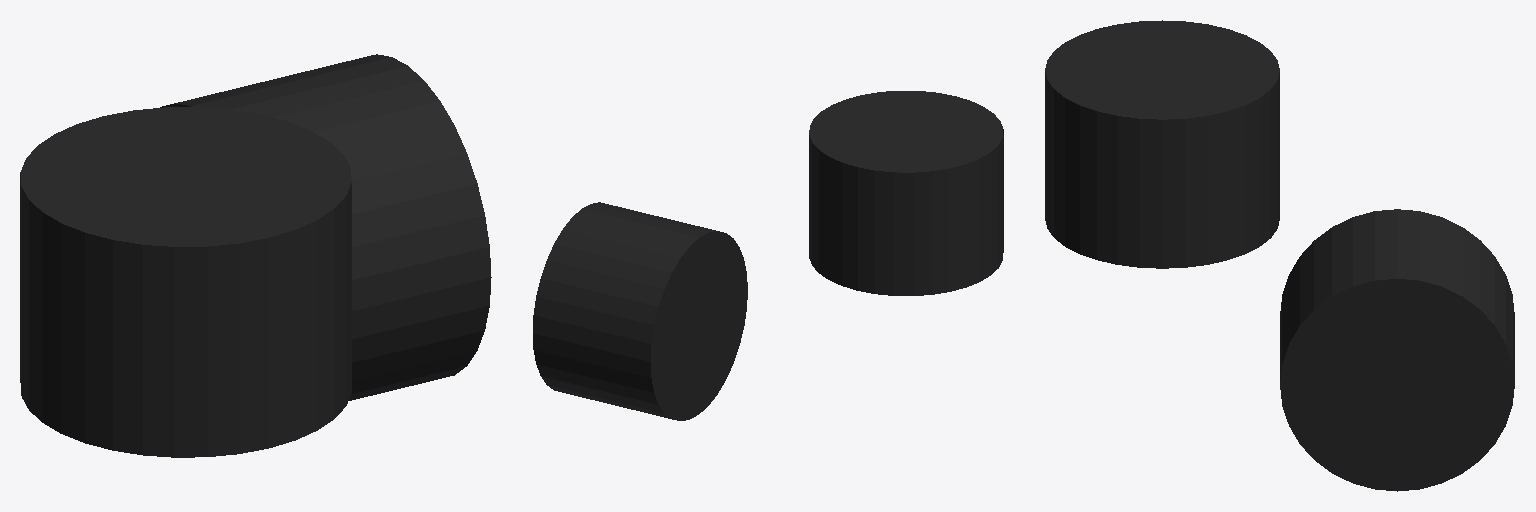
robot.urdf — cartographer_backpack_3d:
<!--
  Copyright 2016 The Cartographer Authors

  Licensed under the Apache License, Version 2.0 (the "License");
  you may not use this file except in compliance with the License.
  You may obtain a copy of the License at

       http://www.apache.org/licenses/LICENSE-2.0

  Unless required by applicable law or agreed to in writing, software
  distributed under the License is distributed on an "AS IS" BASIS,
  WITHOUT WARRANTIES OR CONDITIONS OF ANY KIND, either express or implied.
  See the License for the specific language governing permissions and
  limitations under the License.
-->

<robot name="cartographer_backpack_3d">
  <material name="orange">
    <color rgba="1.0 0.5 0.2 1" />
  </material>
  <material name="gray">
    <color rgba="0.2 0.2 0.2 1" />
  </material>

  <link name="imu_link">
    <visual>
      <origin xyz="0.0 0.0 0.0" />
      <geometry>
        <box size="0.0 0.0 0.00" />
      </geometry>
      <material name="orange" />
    </visual>
  </link>

  <link name="horizontal_vlp16_link">
    <visual>
      <origin xyz="0.0 0.0 0.0" />
      <geometry>
        <cylinder length="0.07" radius="0.05" />
      </geometry>
      <material name="gray" />
    </visual>
  </link>

  <link name="vertical_vlp16_link">
    <visual>
      <origin xyz="0.0 0.0 0.0" />
      <geometry>
        <cylinder length="0.07" radius="0.05" />
      </geometry>
      <material name="gray" />
    </visual>
  </link>

  <link name="base_link" />

  <joint name="imu_link_joint" type="fixed">
    <parent link="base_link" />
    <child link="imu_link" />
    <origin xyz="0 0 0" rpy="0.0 0 0" />
  </joint>

  <joint name="horizontal_vlp16_link_joint" type="fixed">
    <parent link="base_link" />
    <child link="horizontal_vlp16_link" />
    <origin xyz="0.00 0.0 0.0" rpy="0 0 0" />
  </joint>

  <joint name="vertical_vlp16_link_joint" type="fixed">
    <parent link="base_link" />
    <child link="vertical_vlp16_link" />
    <origin xyz="0.1 0.1 -0.05" rpy="1.5708 0 1.5708" />
  </joint>
</robot>

--- Facts derived from the render (not from the file) ---
Views: 3 orthographic renders of the robot side by side, from view 1: azimuth 30°, elevation 25°; view 2: azimuth 150°, elevation 25°; view 3: azimuth 270°, elevation 25°.
Model cartographer_backpack_3d with 4 links and 3 joints (3 fixed), rooted at base_link, posed every joint at zero.
Links seen in each view (by area): view 1: horizontal_vlp16_link, vertical_vlp16_link; view 2: vertical_vlp16_link, horizontal_vlp16_link; view 3: vertical_vlp16_link, horizontal_vlp16_link.
Boxes of the visible links, x1=… form: horizontal_vlp16_link: x1=20, y1=107, x2=351, y2=457; vertical_vlp16_link: x1=160, y1=54, x2=491, y2=400; vertical_vlp16_link: x1=533, y1=202, x2=747, y2=420; horizontal_vlp16_link: x1=809, y1=91, x2=1003, y2=295; vertical_vlp16_link: x1=1280, y1=209, x2=1514, y2=491; horizontal_vlp16_link: x1=1045, y1=20, x2=1279, y2=268.
Bounding box of the posed robot: 0.185 × 0.2 × 0.135 m (x, y, z).
Geometry: primitives only (box / cylinder / sphere), no mesh files.